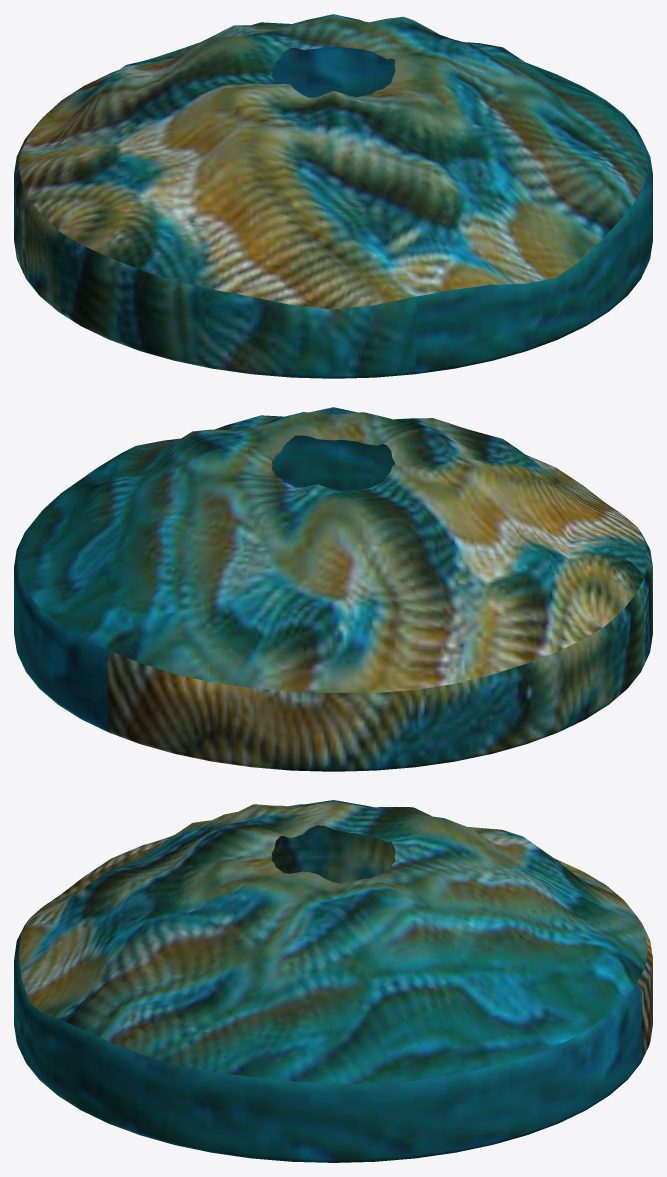
Rendered from softCoralBot.obj.
3 views of the same model, one above another, from view 1: azimuth 30°, elevation 25°; view 2: azimuth 150°, elevation 25°; view 3: azimuth 270°, elevation 25° (orthographic).
Visible parts, largest first — view 1: softCoral.001; view 2: softCoral.001; view 3: softCoral.001.
Boxes of the visible parts, bbox=[...] form: softCoral.001: bbox=[14, 14, 652, 378]; softCoral.001: bbox=[14, 407, 652, 771]; softCoral.001: bbox=[14, 800, 652, 1162].
Size of the model in its own units: 6.91 by 2.19 by 6.91.
